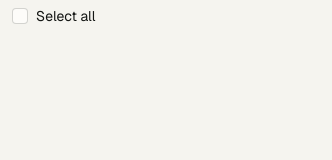
Scenario: Checkbox › toggles on click, Space and label click
This screenshot has width=332, height=160.
Click the checkbox named "Select all" at (20, 16), box [12,8,28,24]
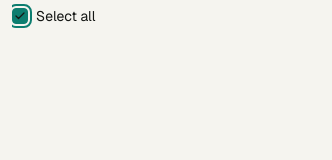
expect the checkbox named "Select all" is checked: met, box [12,8,28,24]
Type keys " "
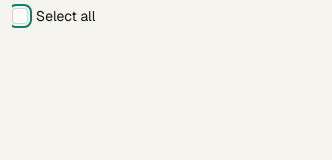
expect the checkbox named "Select all" is not checked: met, box [12,8,28,24]
Click the text "Select all" at (66, 16), box [36,6,95,26]
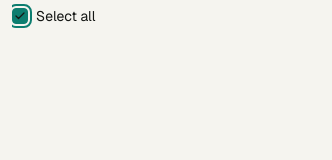
expect the checkbox named "Select all" is checked: met, box [12,8,28,24]
